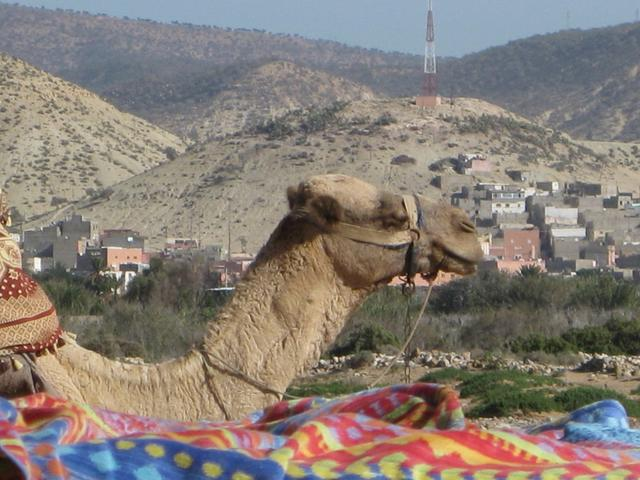camel: (57, 143, 526, 474)
